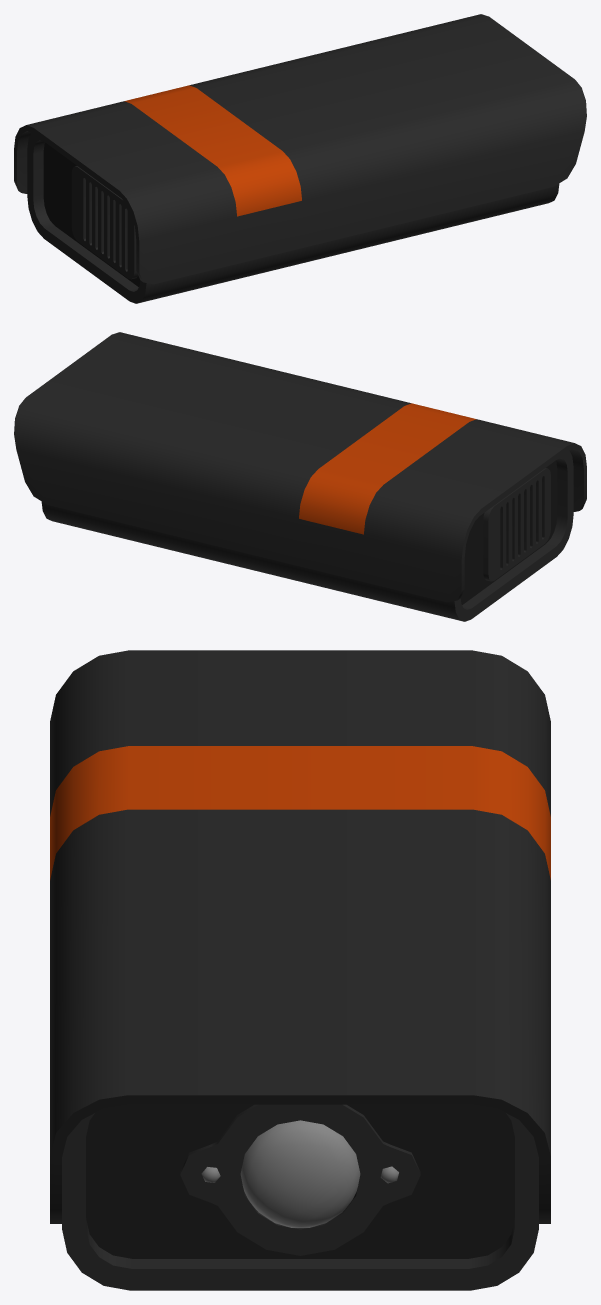
The model's file is SM_LaserModule.FBX.
3 views of the same model, one above another, from view 1: azimuth 30°, elevation 25°; view 2: azimuth 150°, elevation 25°; view 3: azimuth 270°, elevation 25° (orthographic). The views are drawn at different scales.
Parts seen in each view (by area): view 1: SM_LaserModule_LOD0; view 2: SM_LaserModule_LOD0; view 3: SM_LaserModule_LOD0.
Boxes of the visible parts, x1,y1,x2,y2 form: SM_LaserModule_LOD0: (14,14,586,303); SM_LaserModule_LOD0: (14,332,586,621); SM_LaserModule_LOD0: (50,650,550,1290).
Size of what is drawn, in the model's own units: 44.13 by 21 by 10.5.
